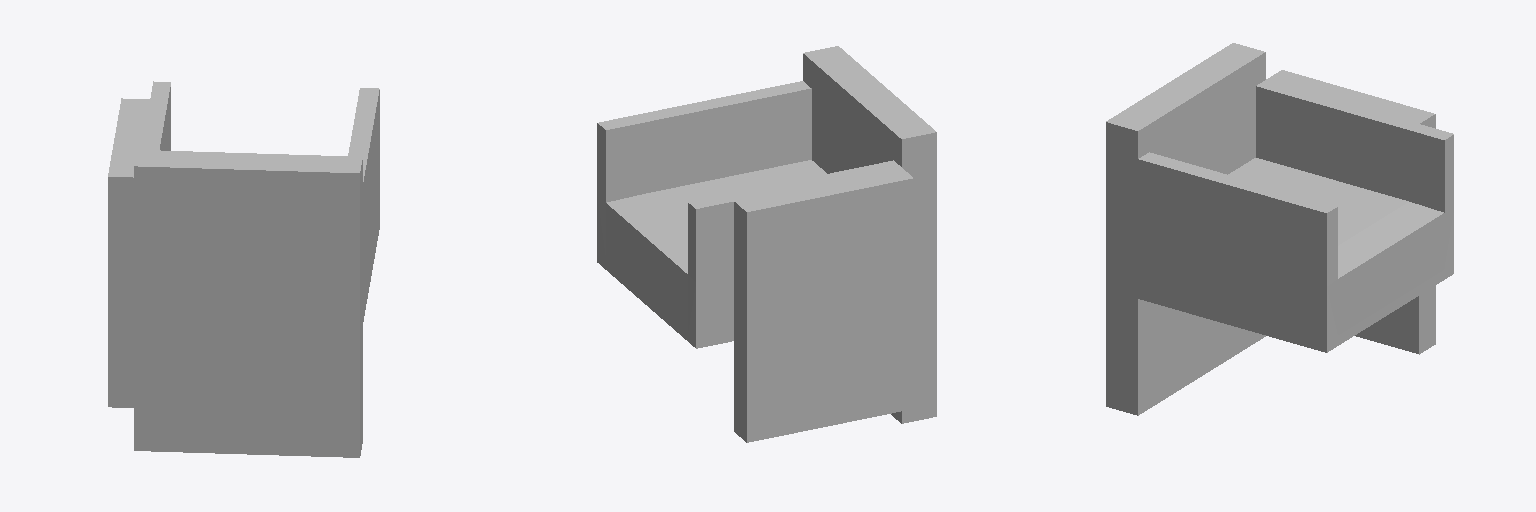
File: silla.obj
3 renders of one model, left to right at view 1: azimuth 30°, elevation 25°; view 2: azimuth 150°, elevation 25°; view 3: azimuth 270°, elevation 25°, orthographic.
Visible parts, largest first — view 1: pCube89; view 2: pCube89; view 3: pCube89.
Boxes of the visible parts, box(x1,y1,x2,y2) form: pCube89: box(108, 81, 379, 457); pCube89: box(597, 46, 936, 442); pCube89: box(1106, 43, 1453, 415).
Bounding box in the file's own units: 7.2 × 6.65 × 7.39.